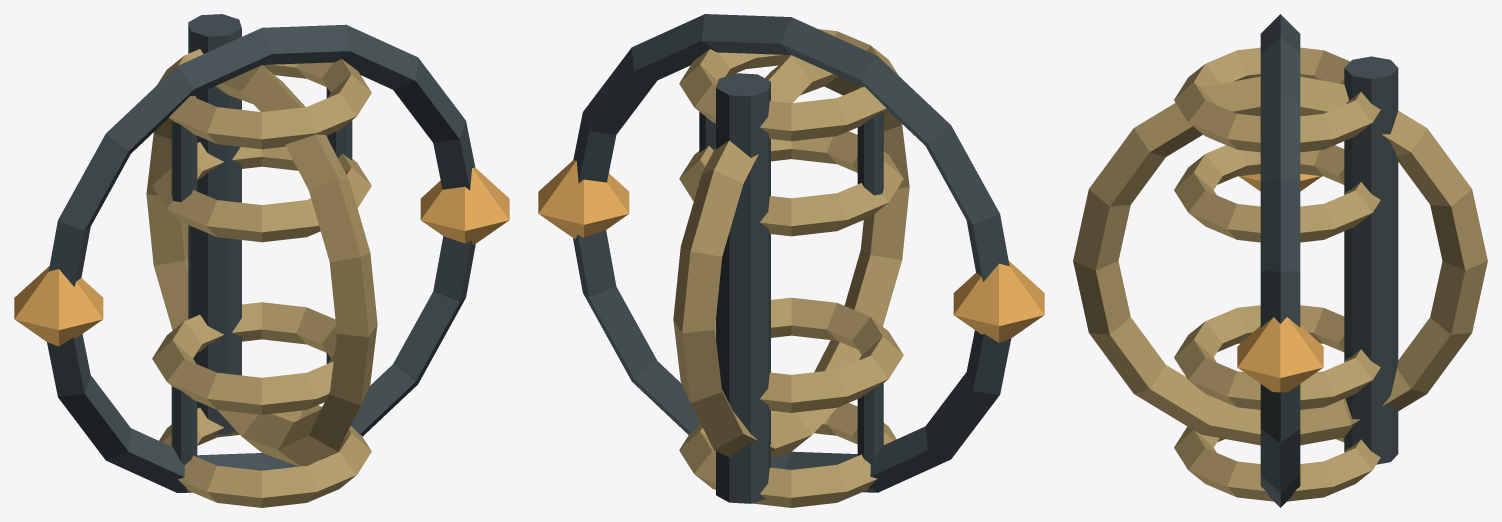
File: Equip_GyroCuff.fbx
3 renders of one model, left to right at view 1: azimuth 30°, elevation 25°; view 2: azimuth 150°, elevation 25°; view 3: azimuth 270°, elevation 25°, orthographic. The views are drawn at different scales.
Visible parts, largest first — view 1: Equip_GyroCuff; view 2: Equip_GyroCuff; view 3: Equip_GyroCuff.
Part boxes in pixels (left/top/right/bottom): Equip_GyroCuff: left=14, top=14, right=509, bottom=507; Equip_GyroCuff: left=538, top=14, right=1044, bottom=507; Equip_GyroCuff: left=1073, top=14, right=1487, bottom=507.
Size of the model in its own units: 0.39 by 0.348 by 0.292.
